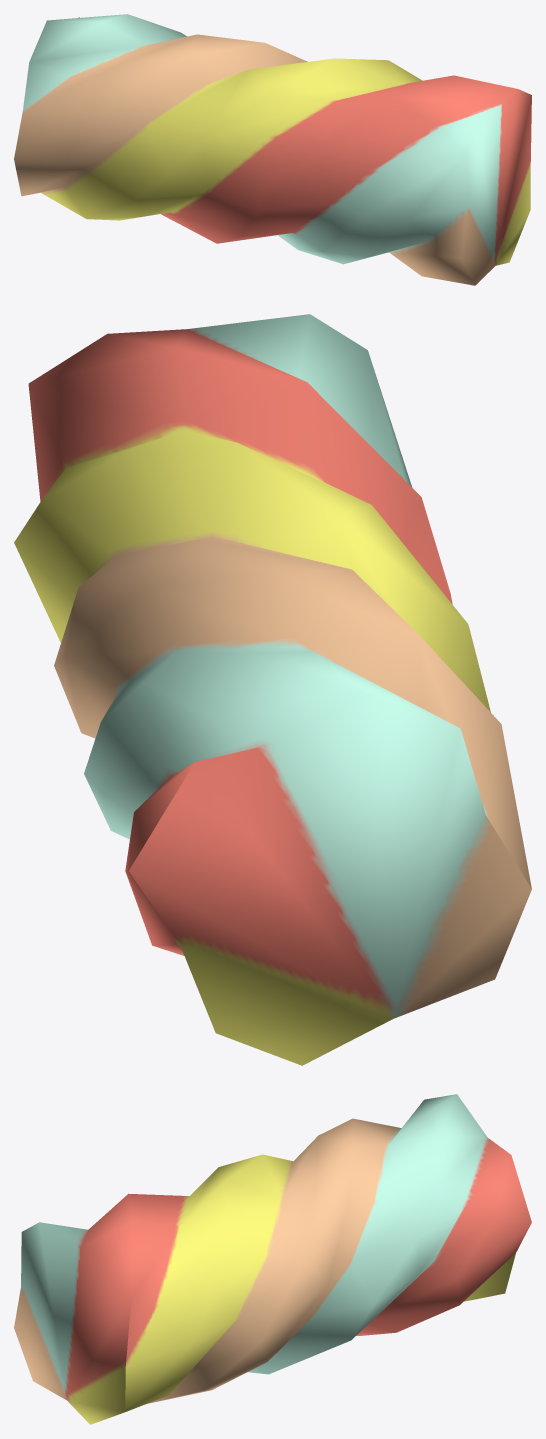
File: grass_candy.fbx
3 views of the same model, one above another, from view 1: azimuth 30°, elevation 25°; view 2: azimuth 150°, elevation 25°; view 3: azimuth 270°, elevation 25° (orthographic). The views are drawn at different scales.
Parts seen in each view (by area): view 1: grass; view 2: grass; view 3: grass.
Part boxes in pixels (x1=…): grass: x1=14, y1=14, x2=531, y2=285; grass: x1=14, y1=314, x2=531, y2=1065; grass: x1=14, y1=1094, x2=531, y2=1424.
Bounding box in the file's own units: 52.05 × 24.48 × 58.53.
